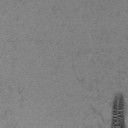oxide scale of plate system: (110, 94, 126, 128)
